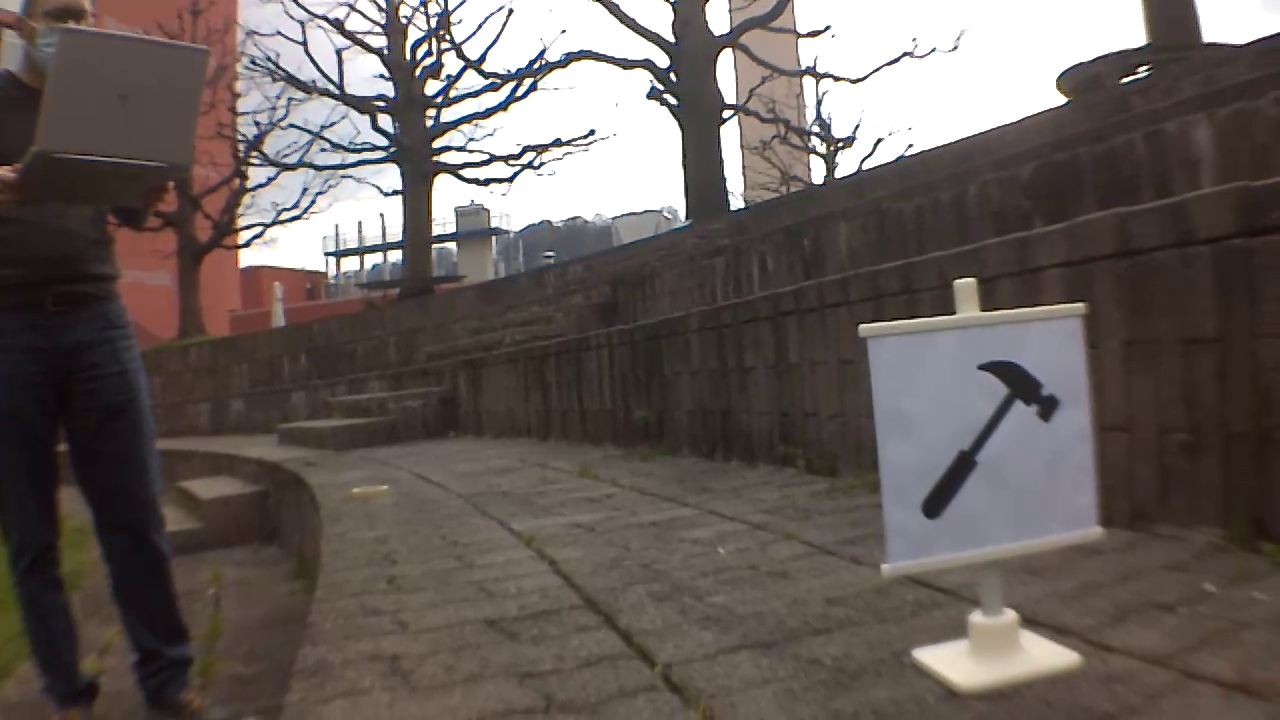hammer: (921, 361, 1063, 524)
